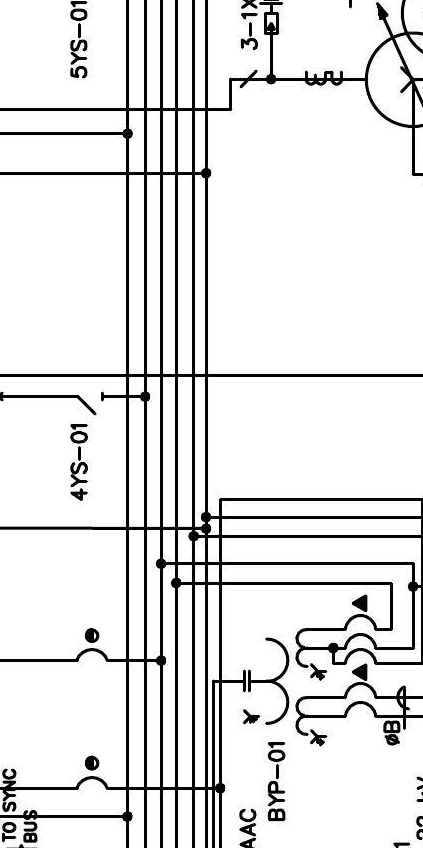115_cvt_3p: (243, 627, 328, 747)
115_ds: (76, 390, 104, 416)
